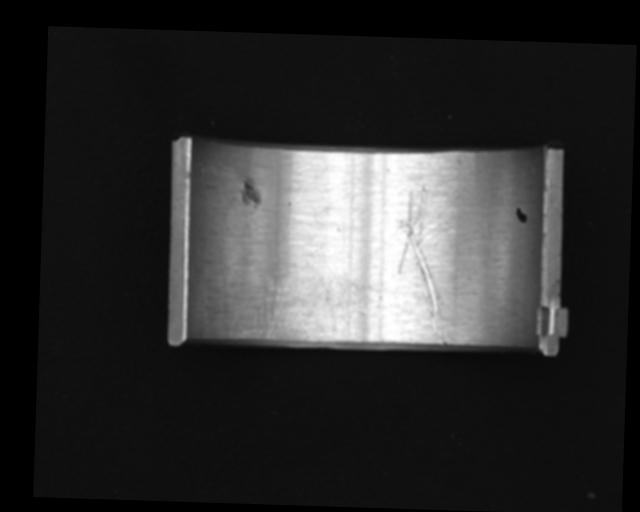blot: (514, 204, 529, 223)
bruise: (239, 178, 262, 207)
nick: (393, 183, 453, 344)
scratch: (236, 256, 355, 343)
